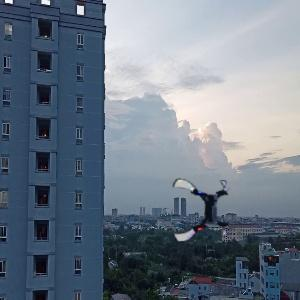drone: (168, 179, 235, 246)
